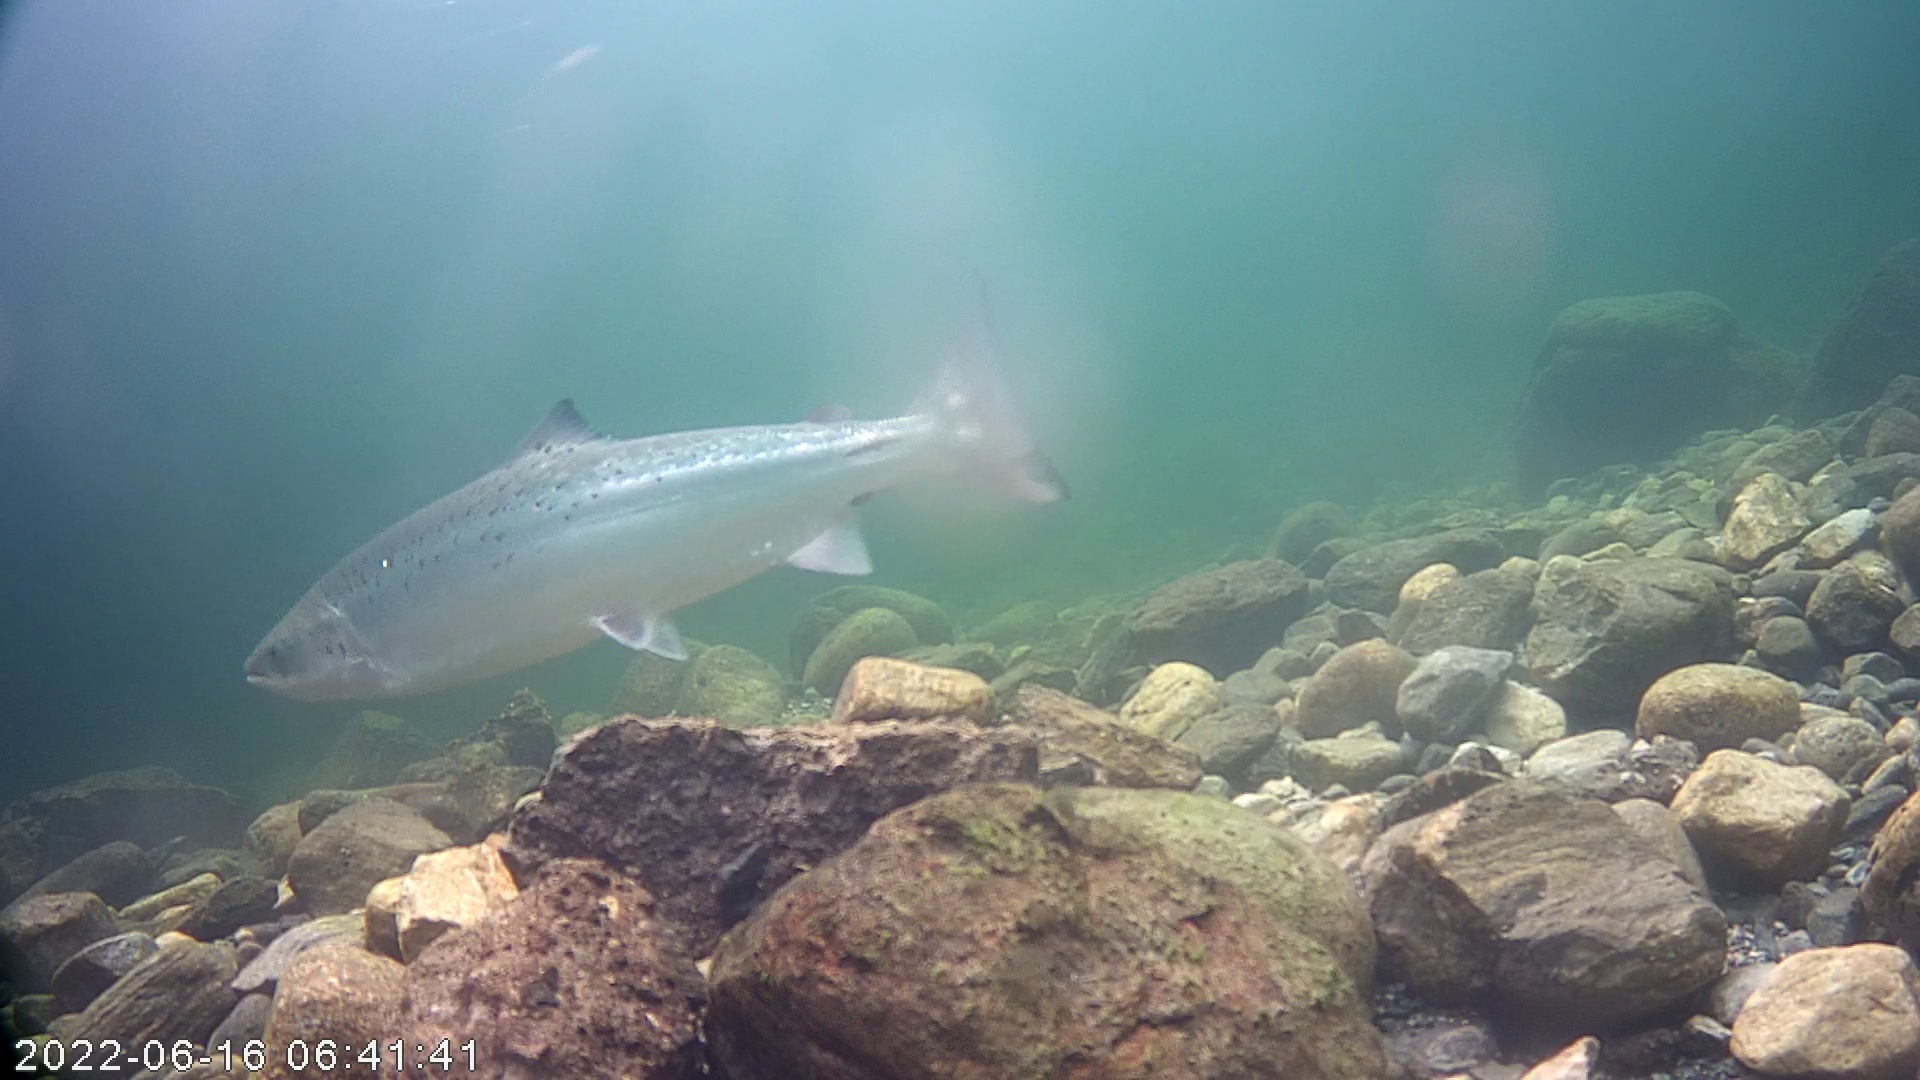salmon: (235, 278, 1076, 705)
